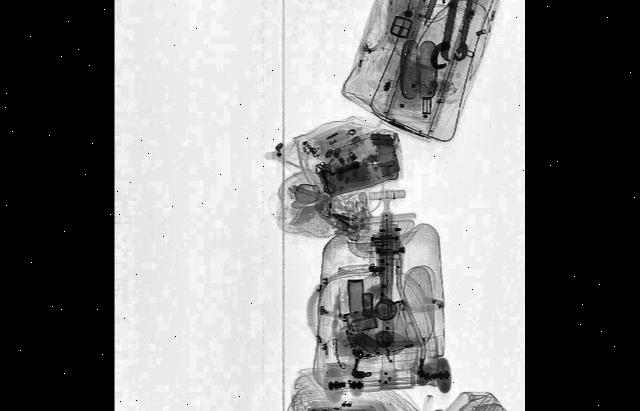Wrench: (453, 0, 478, 62)
